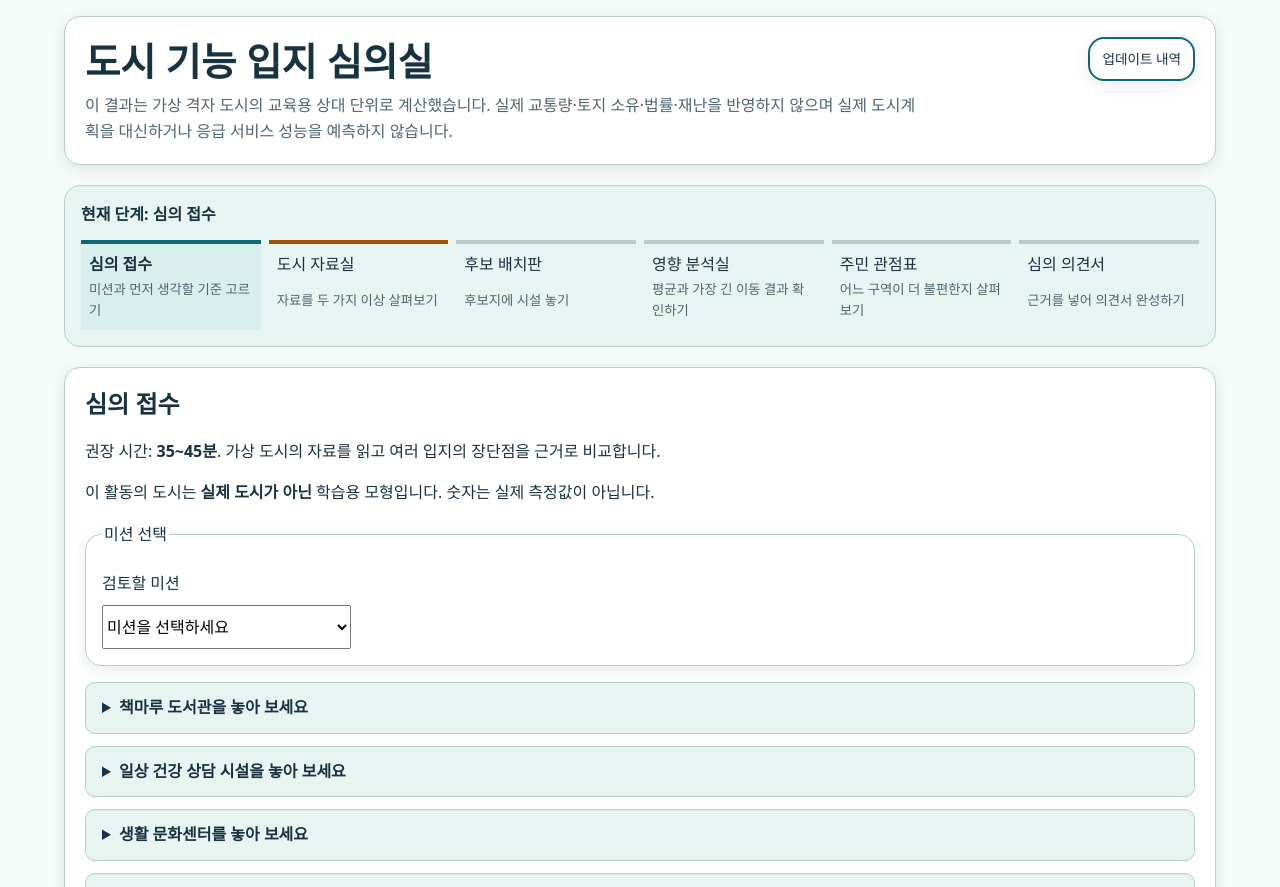
Test: ReviewIntake › shows two slots and shared phased budget guidance for the combined mission
Select "두 시설의 절충안을 검토해 보세요" in the dropdown named "미션 선택": (226, 627) [102,605,351,649]
(page scrolled)
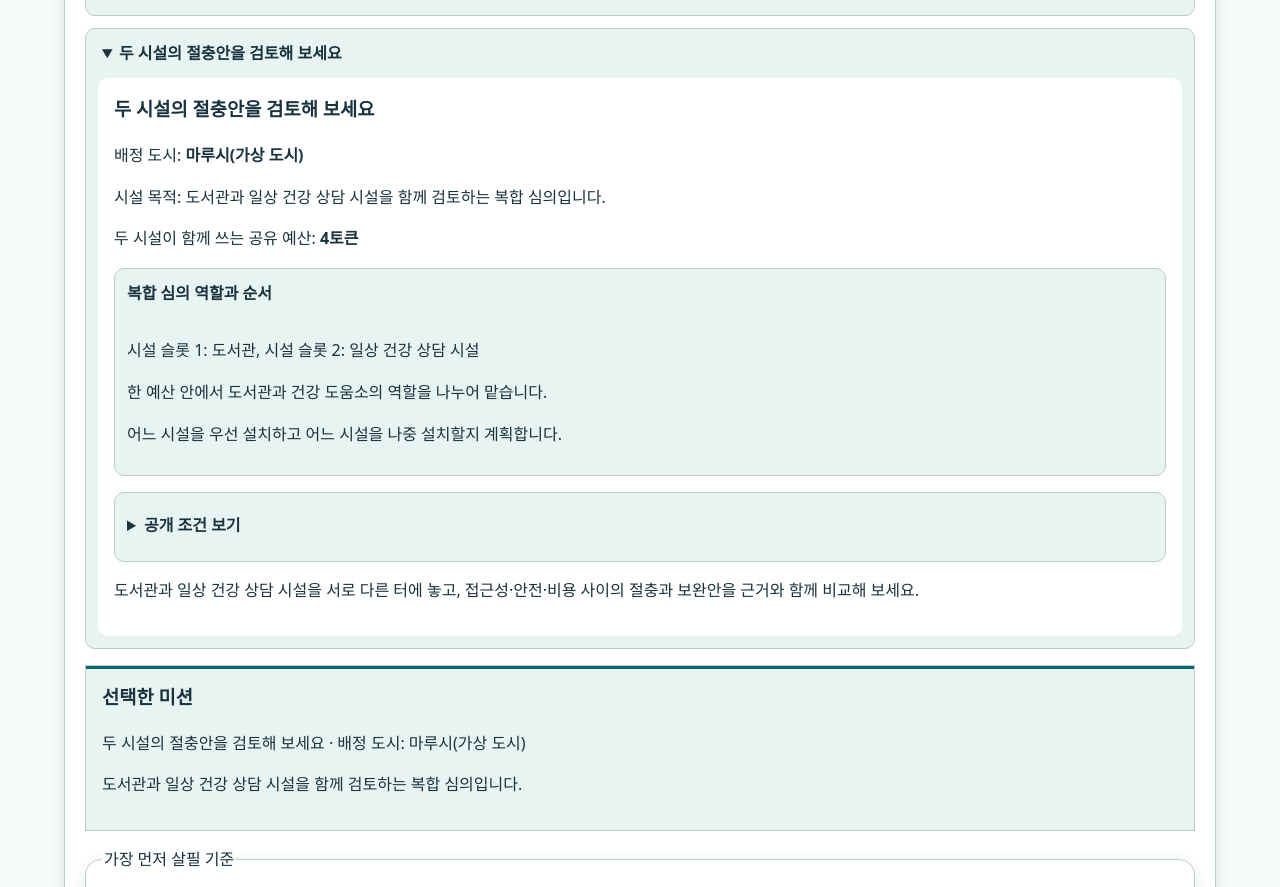
Check: the text "시설 목적: 도서관과 일상 건강 상담 시설을 함께 검토하는 복합 심의입니다." is shown, box [114,186,606,208]
Check: the text "두 시설이 함께 쓰는 공유 예산: 4토큰" is shown, box [114,227,358,249]
Check: the text "한 예산 안에서 도서관과 건강 도움소의 역할을 나누어 맡습니다." is shown, box [127,381,547,403]
